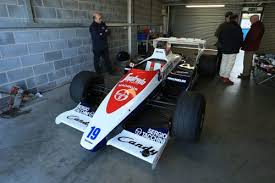f1_car: (51, 33, 223, 177)
